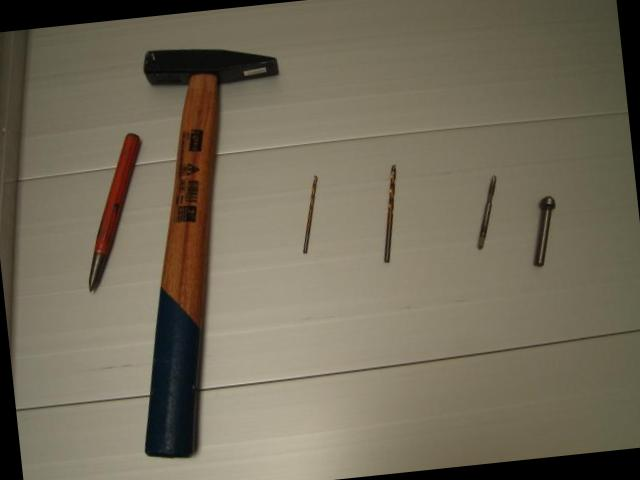PEN: (71, 125, 152, 296)
